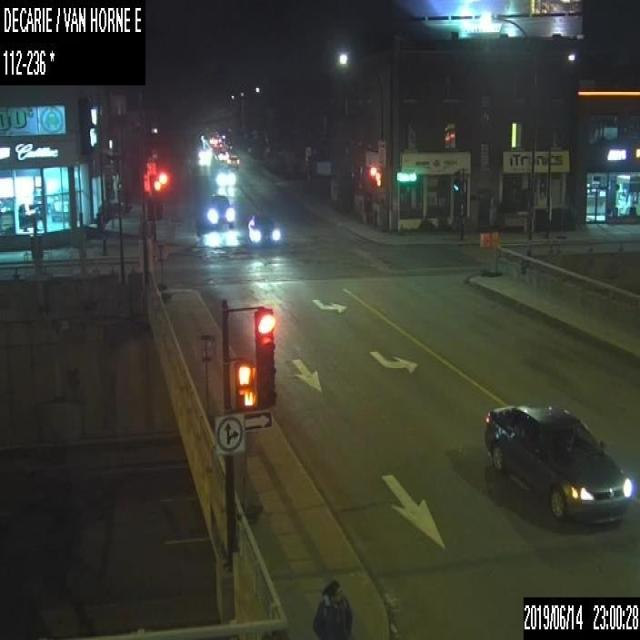construction: (235, 427, 263, 518), (194, 333, 218, 430), (489, 230, 501, 276), (477, 231, 489, 274)
pedestrian: (310, 580, 352, 639)
vehicle: (480, 401, 633, 520), (247, 212, 278, 246), (206, 193, 234, 230), (227, 152, 239, 169)
